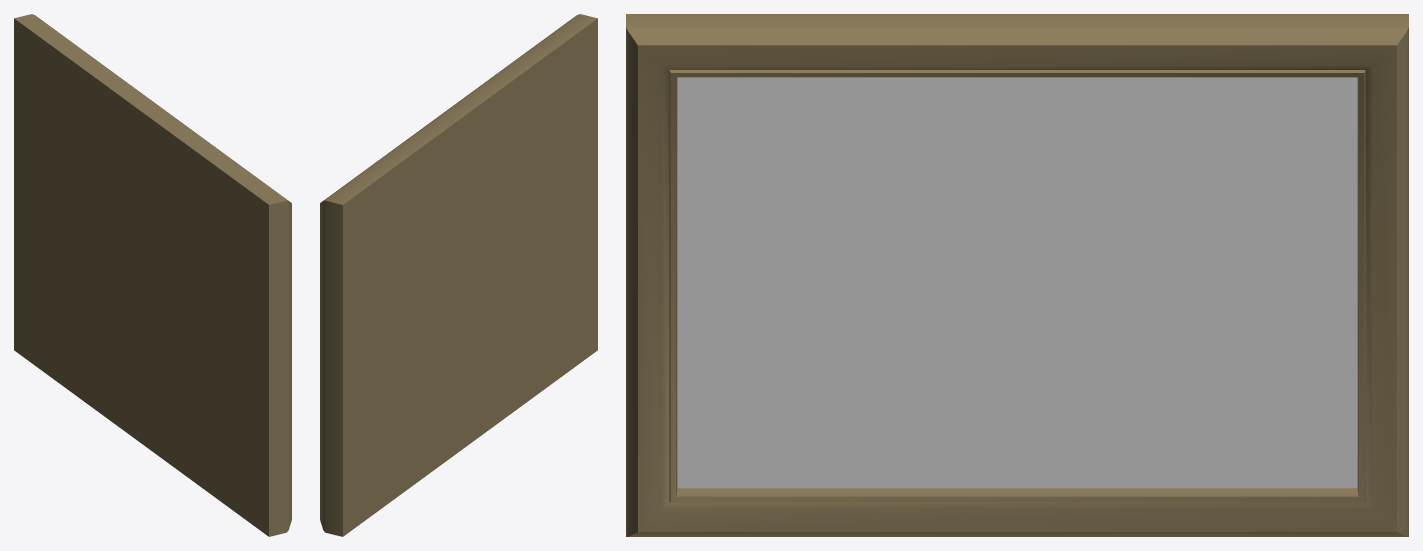
File: Photo Frame01.fbx
3 views of the same model, side by side, from view 1: azimuth 30°, elevation 25°; view 2: azimuth 150°, elevation 25°; view 3: azimuth 270°, elevation 25° (orthographic). The views are drawn at different scales.
Parts seen in each view (by area): view 1: Picture Frame - 3 Windmill X; view 2: Picture Frame - 3 Windmill X; view 3: Picture Frame - 3 Windmill X.
Boxes of the visible parts, box(x1,y1,x2,y2) form: Picture Frame - 3 Windmill X: box(14, 14, 291, 536); Picture Frame - 3 Windmill X: box(320, 14, 597, 536); Picture Frame - 3 Windmill X: box(626, 14, 1408, 536).
Size of the model in its own units: 5.31 by 63.17 by 87.94.
